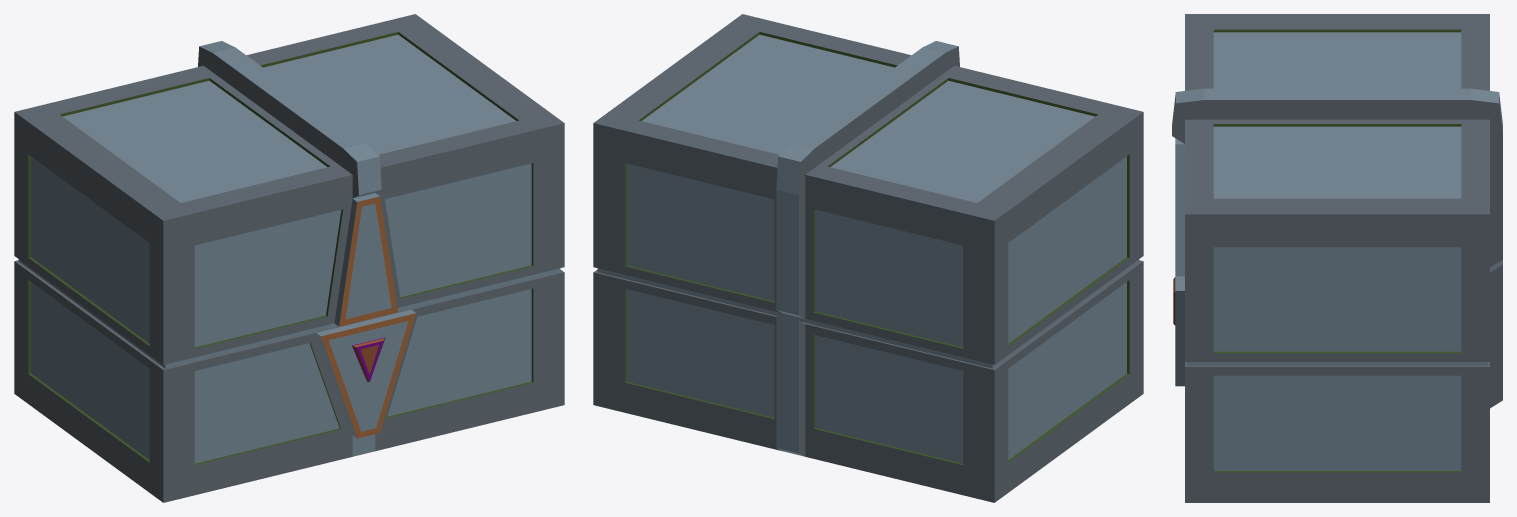
File: ChestV2.glb
The picture shows the model from 3 angles, left to right: view 1: azimuth 30°, elevation 25°; view 2: azimuth 150°, elevation 25°; view 3: azimuth 270°, elevation 25°; orthographic projection. The views are drawn at different scales.
Visible parts, largest first — view 1: ChestV2_Top, ChestV2, ChestV2_Lock; view 2: ChestV2_Top, ChestV2; view 3: ChestV2_Top, ChestV2.
Boxes of the visible parts, x1,y1,x2,y2 form: ChestV2_Top: [14, 14, 564, 364]; ChestV2: [14, 259, 564, 502]; ChestV2_Lock: [352, 337, 384, 381]; ChestV2_Top: [593, 14, 1143, 364]; ChestV2: [593, 259, 1143, 502]; ChestV2_Top: [1172, 14, 1502, 361]; ChestV2: [1175, 259, 1502, 502].
Bounding box in the file's own units: 74.4 × 53.44 × 51.95.
1 material, 1 textured.
